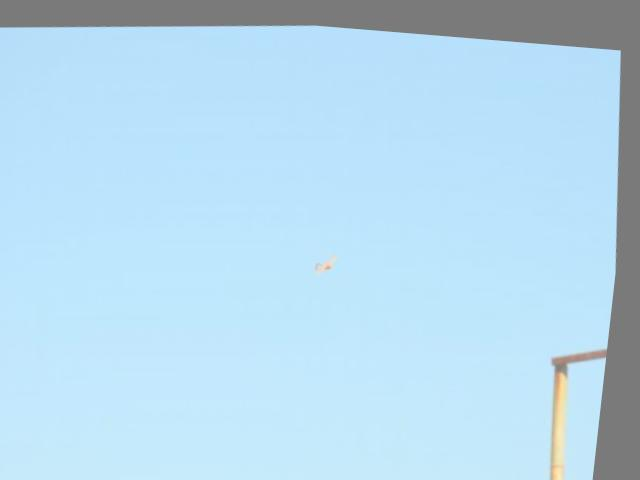iha: (310, 244, 344, 271)
